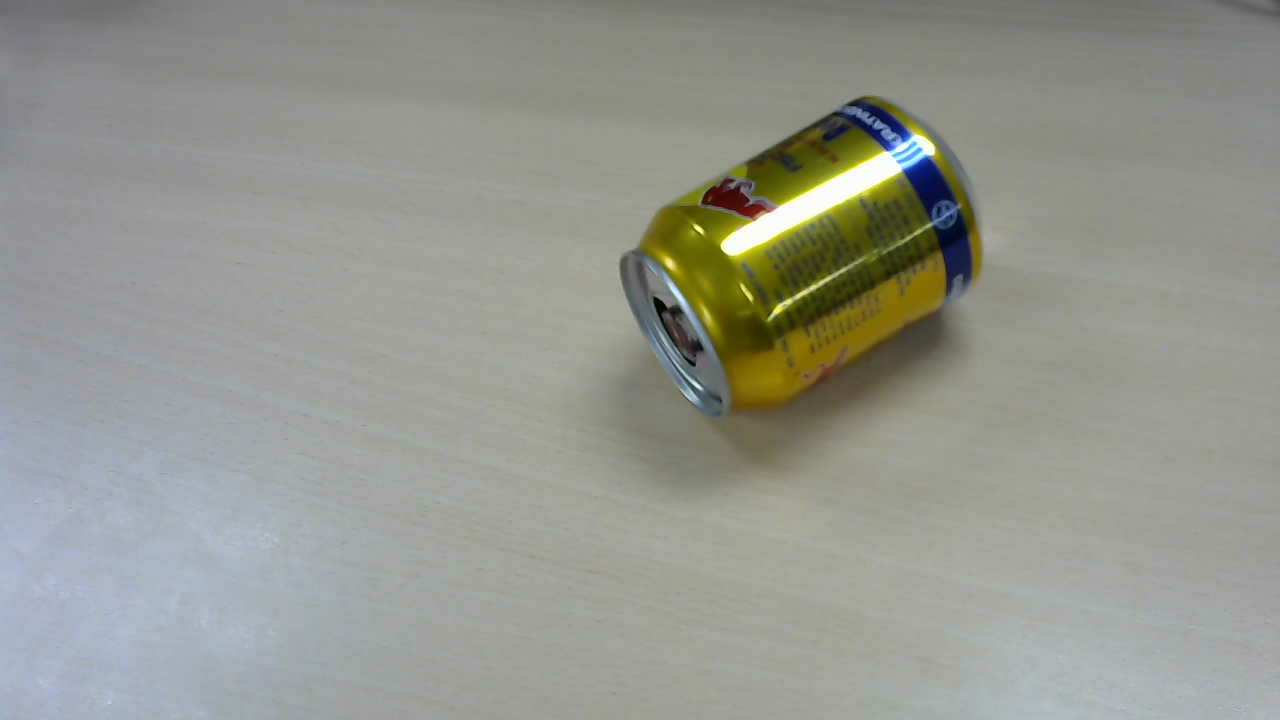Red_Bull: (630, 97, 993, 419)
